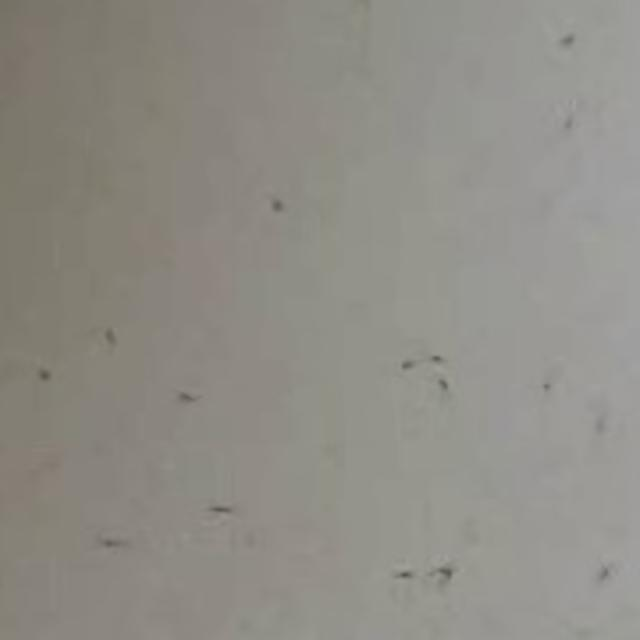shrimp-seed: (191, 489, 250, 529), (163, 376, 222, 415), (428, 370, 474, 420), (24, 353, 71, 400), (548, 87, 588, 139), (88, 521, 140, 560), (262, 180, 300, 230), (382, 338, 425, 381), (372, 556, 424, 591), (530, 368, 564, 414), (95, 311, 127, 359), (588, 554, 621, 600), (424, 556, 465, 592), (413, 342, 462, 363)
